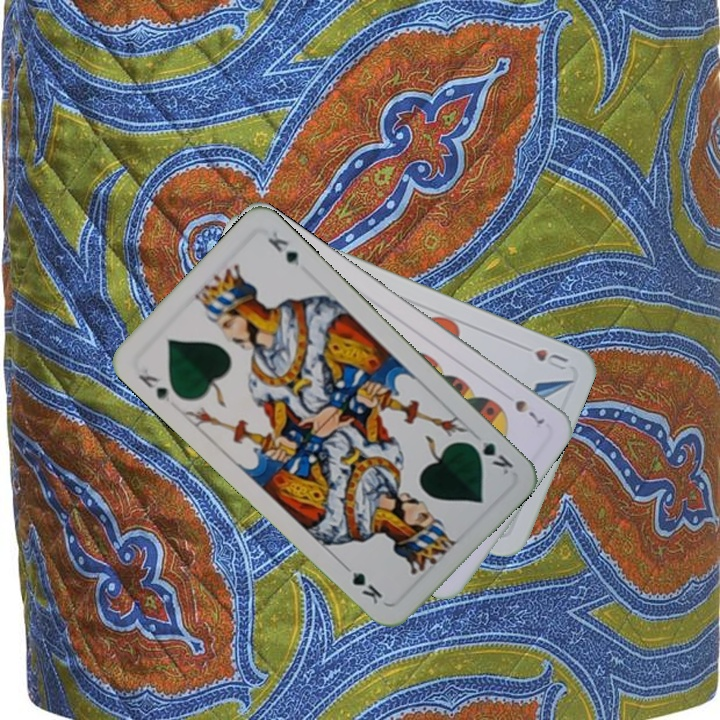GK: (464, 429, 516, 478), (133, 361, 173, 405)
HU: (530, 345, 571, 374)
S7: (511, 396, 548, 430)
